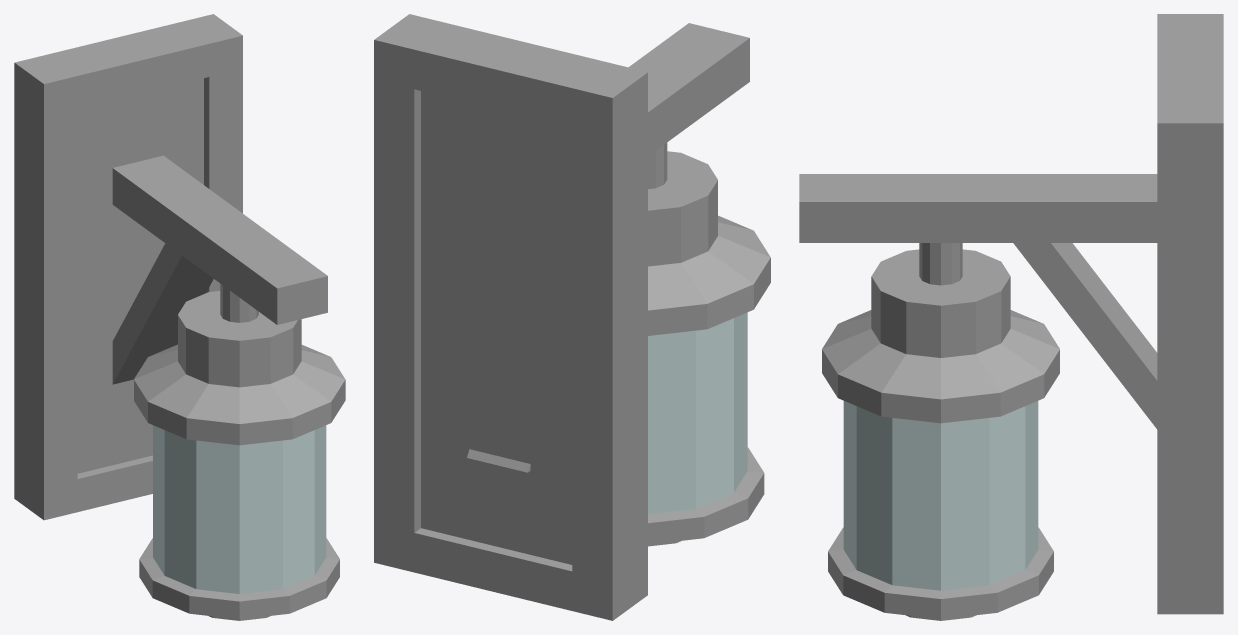
File: guideLight.fbx
The picture shows the model from 3 angles, left to right: view 1: azimuth 30°, elevation 25°; view 2: azimuth 150°, elevation 25°; view 3: azimuth 270°, elevation 25°; orthographic projection. The views are drawn at different scales.
Visible parts, largest first — view 1: guideLight; view 2: guideLight; view 3: guideLight.
Boxes of the visible parts, <box> form: guideLight: <box>14,14,345,620</box>; guideLight: <box>374,14,770,620</box>; guideLight: <box>799,14,1223,620</box>.
Size of the model in its own units: 2.66 by 5.97 by 4.36.
